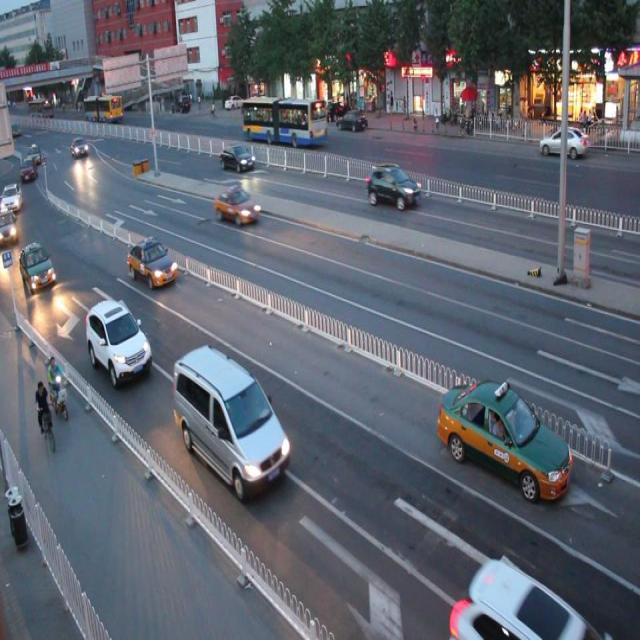car: (171, 342, 288, 498), (436, 374, 570, 501), (448, 557, 599, 640), (85, 295, 153, 385), (128, 239, 180, 287), (365, 162, 419, 208), (213, 184, 259, 225), (220, 142, 254, 170)
van: (242, 97, 328, 146)
